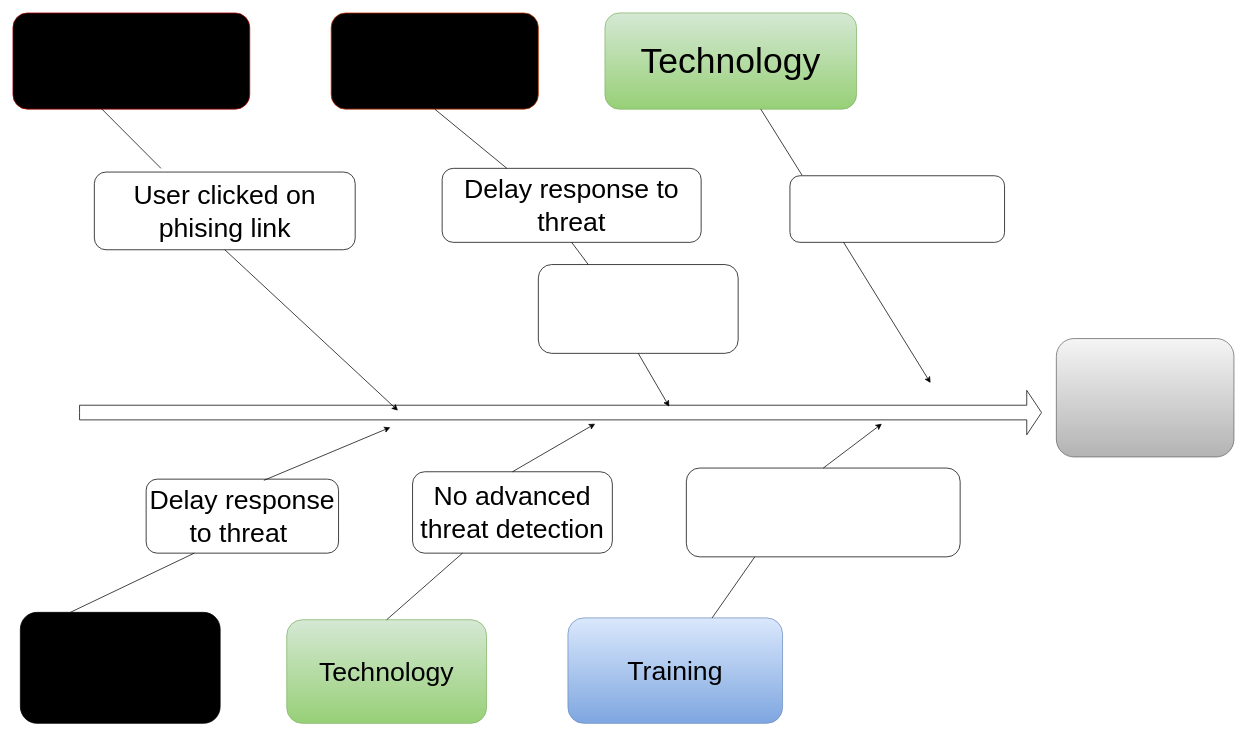
Image size: 1247x736. Some labels were removed from this diagram. Here are the shapes that lost their labels. From the top down, the centre of each, then its label:
At point 131,60: "People".
At point 897,208: "Weak email filtering".
At point 638,308: "No incident follow- up process".
At point 1145,397: "Phising Incident".
At point 823,512: "Lack of phising awareness training".
